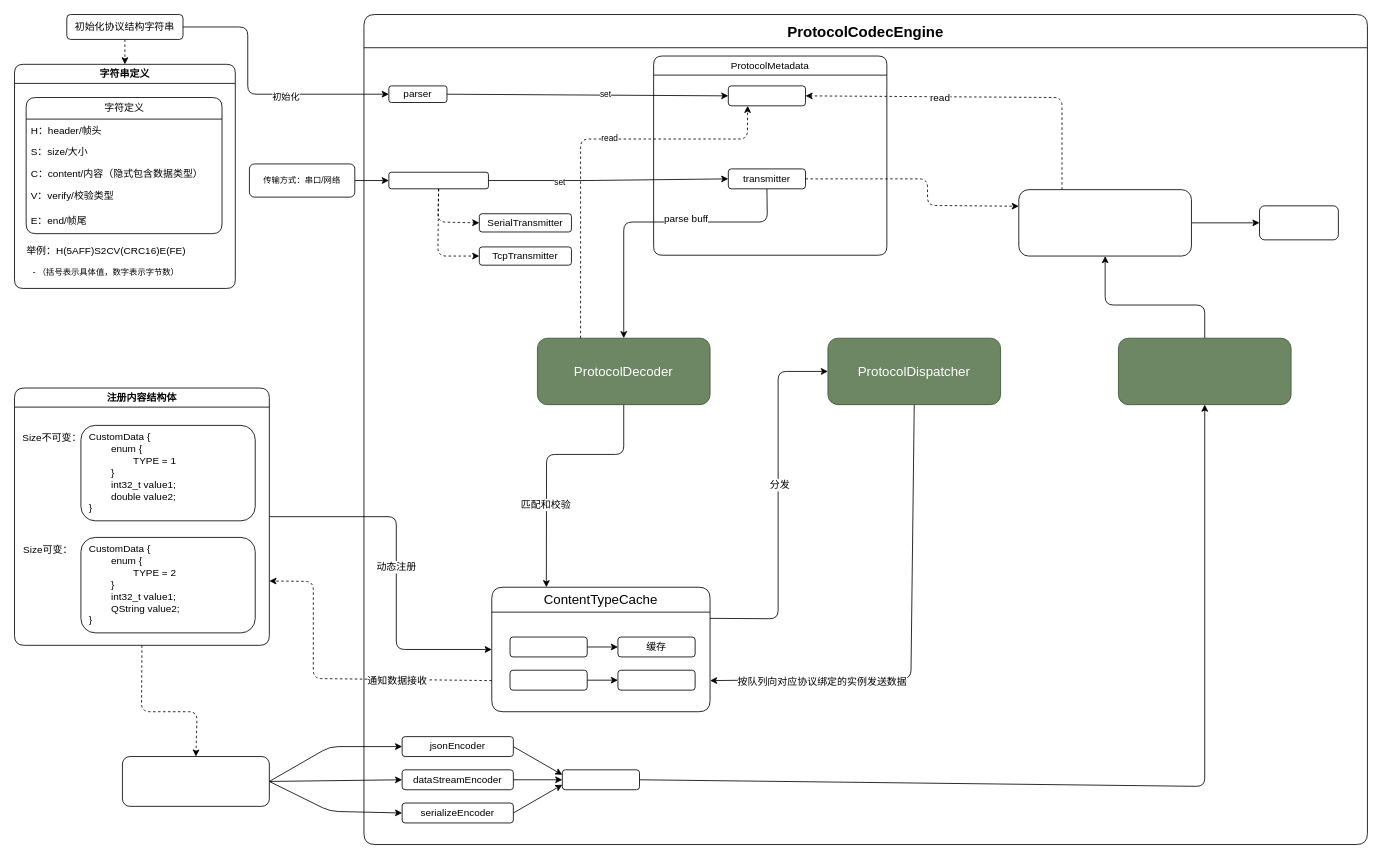
Image size: 1382x859. Some labels were removed from this diagram. Each missing label, with the centre of its shape:
"ProtocolEncoder" belongs at pixel 1204 371.
"ProtocolTransmitter" belongs at pixel 1104 222.
"selector" belongs at pixel 600 779.
"structure" belongs at pixel 766 95.
"transmitterselector" belongs at pixel 438 180.
"对象销毁" belongs at pixel 548 679.
"数据发送" belongs at pixel 195 781.
"注册" belongs at pixel 548 646.
"清除类型缓存" belongs at pixel 656 679.
"设备" belongs at pixel 1298 222.
